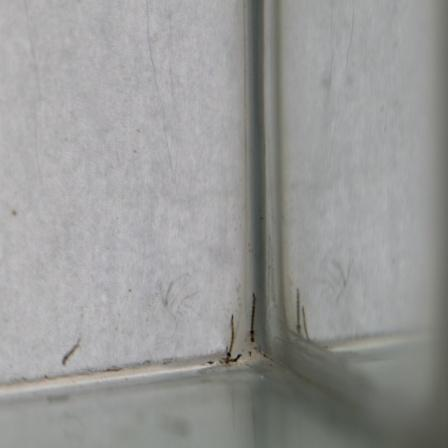Jentik-Nyamuk: (224, 311, 237, 367)
